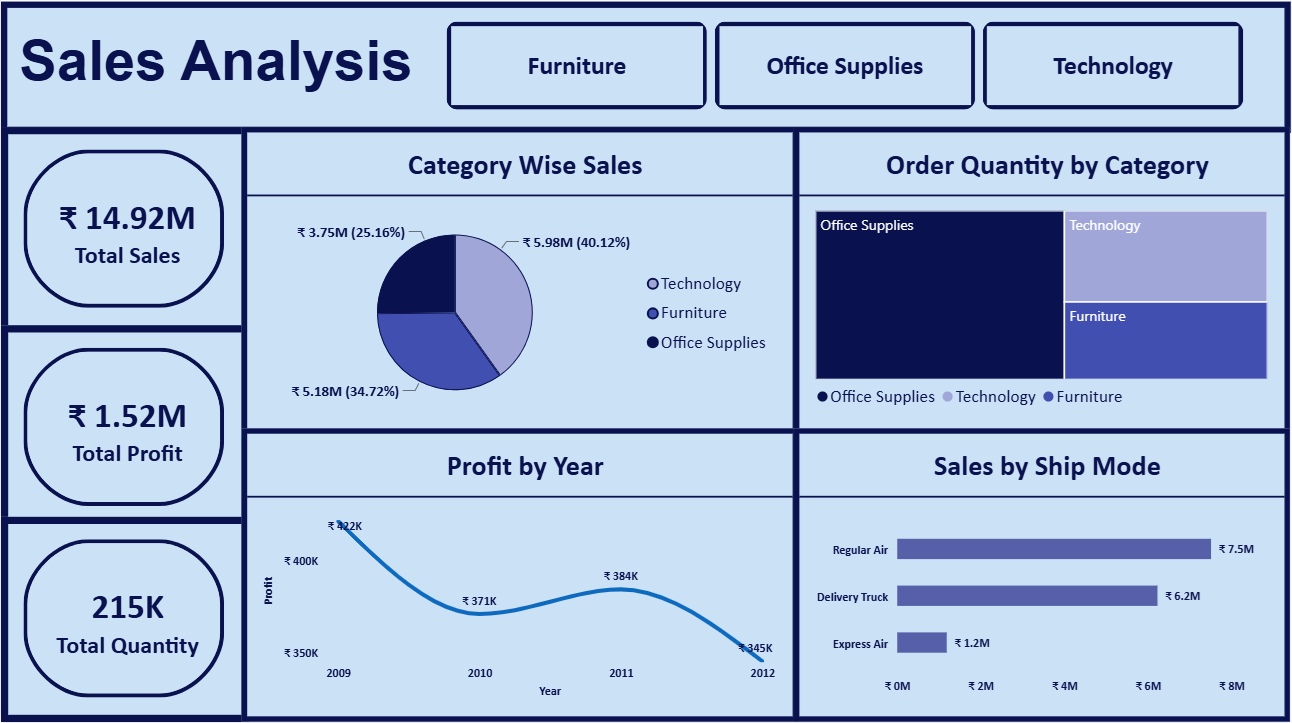

This screenshot's page, from the dashboard's own definition file:
{"tool":"powerbi","page":{"name":"Page 1","canvas":[1280,720],"ordinal":0},"visuals":[{"type":"textbox","box":[0,5.1,1279.7,130],"z":0},{"type":"advancedSlicerVisual","fields":{"Values":["sales_data.Product Category"]},"box":[432.5,15,810,106.2],"z":1000},{"type":"cardVisual","fields":{"Data":["Sum(sales_data.Sales)"]},"box":[0,130.4,245.6,203.8],"z":2000},{"type":"cardVisual","fields":{"Data":["Sum(sales_data.Profit)"]},"box":[0,326.6,245.6,203.8],"z":3000},{"type":"cardVisual","fields":{"Data":["Sum(sales_data.Order Quantity)"]},"box":[0,516.5,245.6,203.8],"z":4000},{"type":"pieChart","title":"Category Wise Sales","fields":{"Category":["sales_data.Product Category"],"Y":["Sum(sales_data.Sales)"]},"box":[239.2,130.4,551.9,307.6],"z":5000},{"type":"lineChart","title":"Profit by Year","fields":{"Category":["sales_data.Ship Date.Variation.Date Hierarchy.Year"],"Y":["Sum(sales_data.Profit)"]},"box":[239.2,429.1,551.9,291.1],"z":6000},{"type":"treemap","title":" Order Quantity by Category","fields":{"Group":["sales_data.Product Category"],"Values":["Sum(sales_data.Order Quantity)"]},"box":[786.7,130,492.2,306.7],"z":6001},{"type":"clusteredBarChart","title":"Sales by Ship Mode","fields":{"Category":["sales_data.Ship Mode"],"Y":["Sum(sales_data.Sales)"]},"box":[786.7,428.9,492.2,291.1],"z":6002}]}

Visuals, with their boxes in screenshot pixels (x1, y1, x2, y2), scaled from the page's 1280x720 canvas onto the 1292x723 screenshot:
textbox: detection(0, 5, 1291, 136)
advancedSlicerVisual - sales_data.Product Category: detection(437, 15, 1254, 122)
cardVisual - Sum(sales_data.Sales): detection(0, 131, 248, 336)
cardVisual - Sum(sales_data.Profit): detection(0, 328, 248, 533)
cardVisual - Sum(sales_data.Order Quantity): detection(0, 519, 248, 722)
"Category Wise Sales" pieChart: detection(241, 131, 799, 440)
"Profit by Year" lineChart: detection(241, 431, 799, 722)
" Order Quantity by Category" treemap: detection(794, 131, 1291, 439)
"Sales by Ship Mode" clusteredBarChart: detection(794, 431, 1291, 722)
